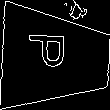P_E: (33, 38, 79, 78)
